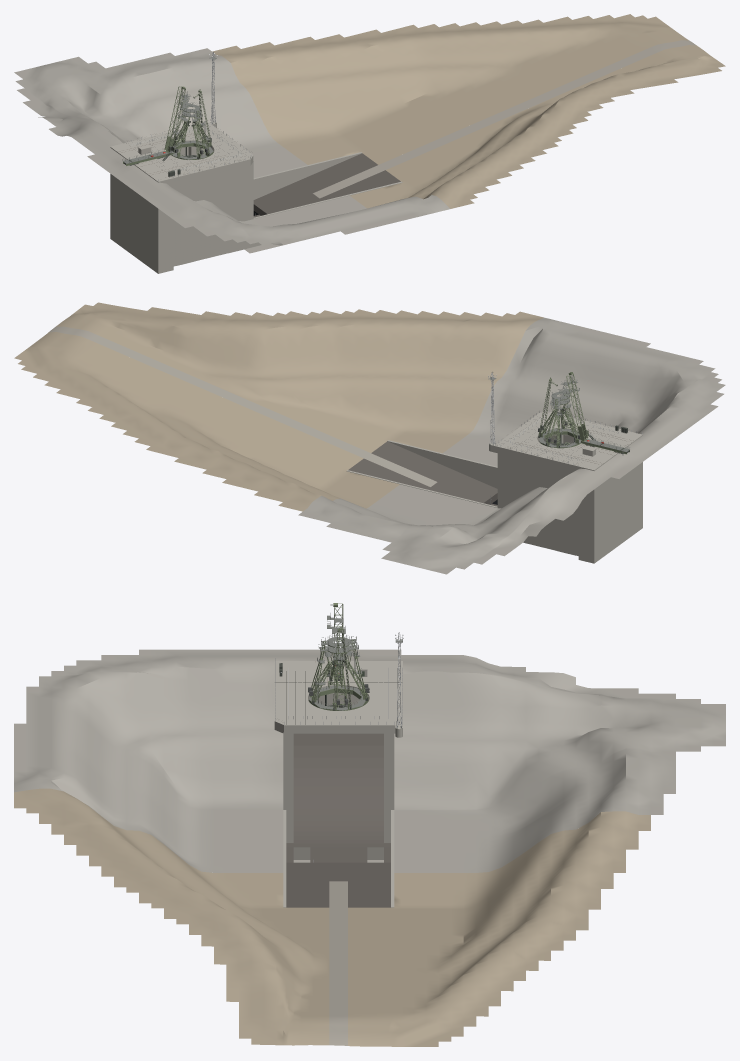
File: pad.lod2.glb
The picture shows the model from 3 angles, top to bottom: view 1: azimuth 30°, elevation 25°; view 2: azimuth 150°, elevation 25°; view 3: azimuth 270°, elevation 25°; orthographic projection. The views are drawn at different scales.
Visible parts, largest first — view 1: FlamePit_Earth, FlamePit_Lining, Platform_ConcretePylons, Platform_Concrete, FlamePit_Road, FlamePit_Scorch, FlamePit_ScorchSump, Erector_Boom_Green; view 2: FlamePit_Earth, FlamePit_Lining, Platform_ConcretePylons, Platform_Concrete, FlamePit_Road, FlamePit_Scorch, FlamePit_ScorchSump, Erector_Boom_Green; view 3: FlamePit_Lining, FlamePit_Earth, FlameDeflector_Scorch, Platform_Concrete, Platform_ConcretePylons, FlamePit_Scorch, FlamePit_Road, FlamePit_ScorchSump.
Part boxes in pixels (x1,y1,x2,y2): FlamePit_Earth: [212, 14, 725, 208]; FlamePit_Lining: [14, 48, 449, 245]; Platform_ConcretePylons: [110, 143, 402, 273]; Platform_Concrete: [126, 121, 253, 184]; FlamePit_Road: [313, 40, 695, 198]; FlamePit_Scorch: [253, 153, 400, 217]; FlamePit_ScorchSump: [253, 181, 322, 215]; Erector_Boom_Green: [164, 86, 187, 151]; FlamePit_Earth: [14, 302, 543, 511]; FlamePit_Lining: [298, 317, 725, 574]; Platform_ConcretePylons: [346, 431, 642, 563]; Platform_Concrete: [489, 411, 623, 471]; FlamePit_Road: [49, 326, 437, 486]; FlamePit_Scorch: [348, 441, 497, 506]; FlamePit_ScorchSump: [428, 470, 497, 504]; Erector_Boom_Green: [564, 372, 587, 440]; FlamePit_Lining: [14, 649, 725, 872]; FlamePit_Earth: [14, 788, 650, 1046]; FlameDeflector_Scorch: [286, 733, 390, 847]; Platform_Concrete: [274, 671, 402, 737]; Platform_ConcretePylons: [274, 661, 402, 907]; FlamePit_Scorch: [286, 847, 390, 907]; FlamePit_Road: [329, 881, 347, 1045]; FlamePit_ScorchSump: [286, 862, 390, 881].
Bounding box in the file's own units: 288 × 85.22 × 228.
